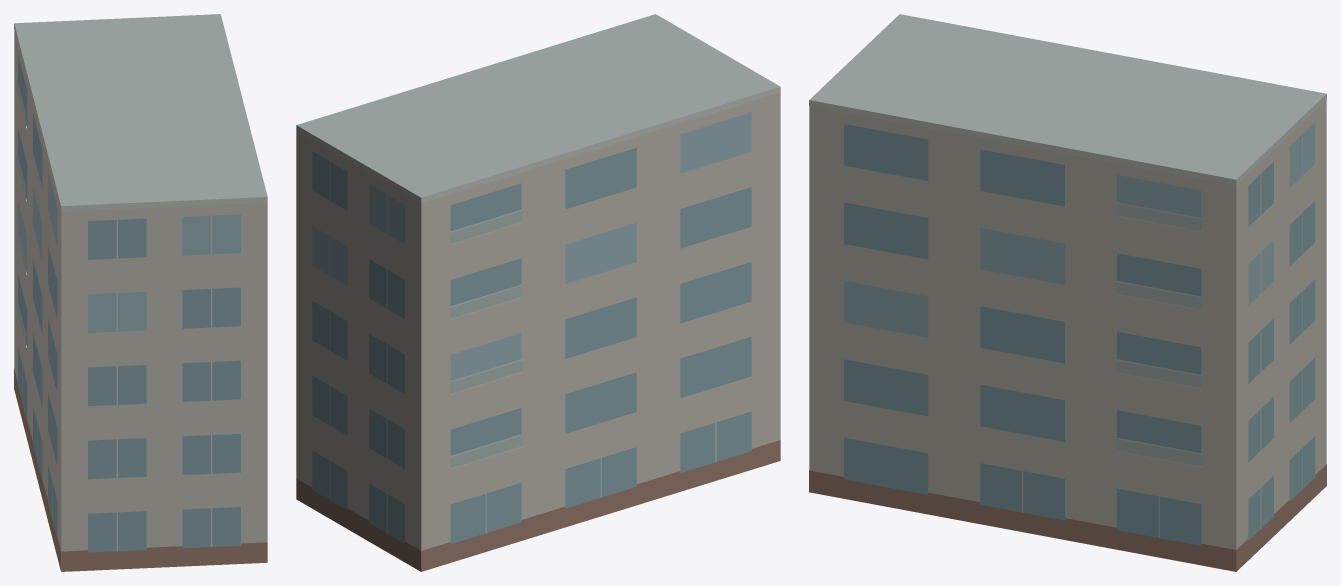
Rendered from survey-upis-32564918.glb.
The picture shows the model from 3 angles, left to right: view 1: azimuth 30°, elevation 25°; view 2: azimuth 150°, elevation 25°; view 3: azimuth 270°, elevation 25°; orthographic projection. The views are drawn at different scales.
Parts seen in each view (by area): view 1: survey-upis-32564918.tmp; view 2: survey-upis-32564918.tmp; view 3: survey-upis-32564918.tmp.
Part boxes in pixels (left/top/right/bottom): survey-upis-32564918.tmp: left=14, top=14, right=267, bottom=571; survey-upis-32564918.tmp: left=296, top=14, right=780, bottom=571; survey-upis-32564918.tmp: left=809, top=14, right=1326, bottom=571.
Bounding box in the file's own units: 14.3 × 15.78 × 18.88.
